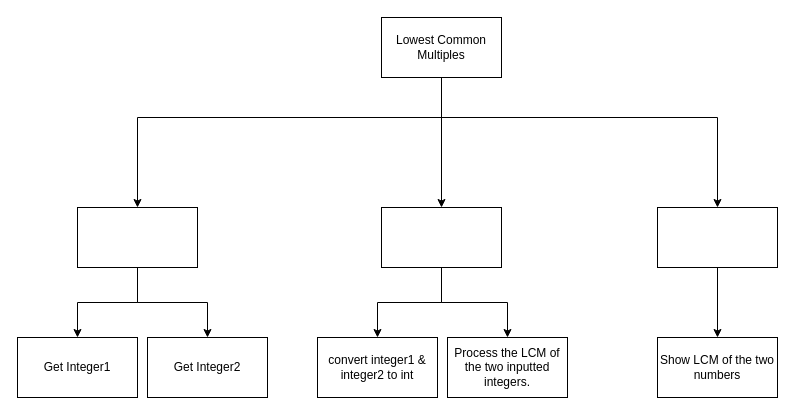
The diagram is 795 pixels wide and 415 high, and some of its shapes have lost their labels. The shapes that lost their labels are listed below. From the top down, each one's centre as x and y in pixels, then its label:
the point at 137,237: Input
the point at 441,237: Process
the point at 717,237: Output
